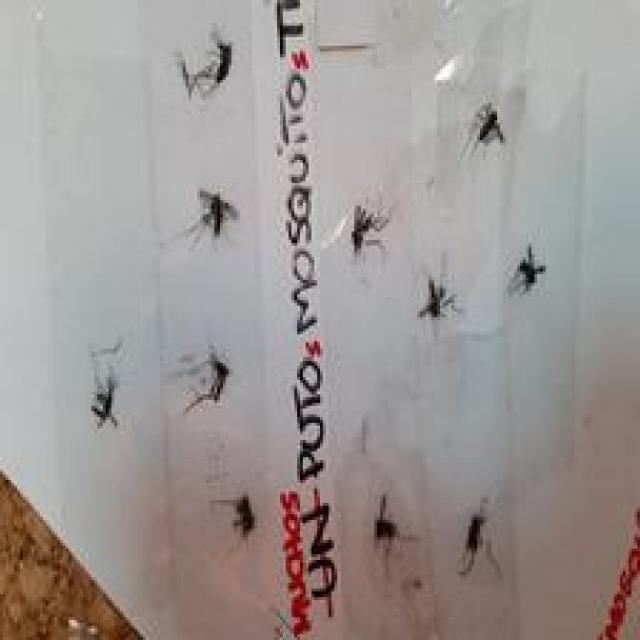Aedes albopictus: (507, 243, 547, 297)
